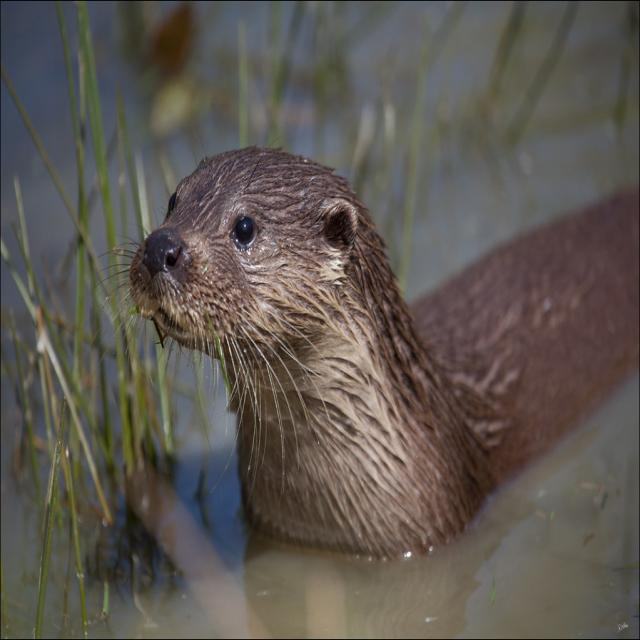otter: (131, 148, 476, 553)
